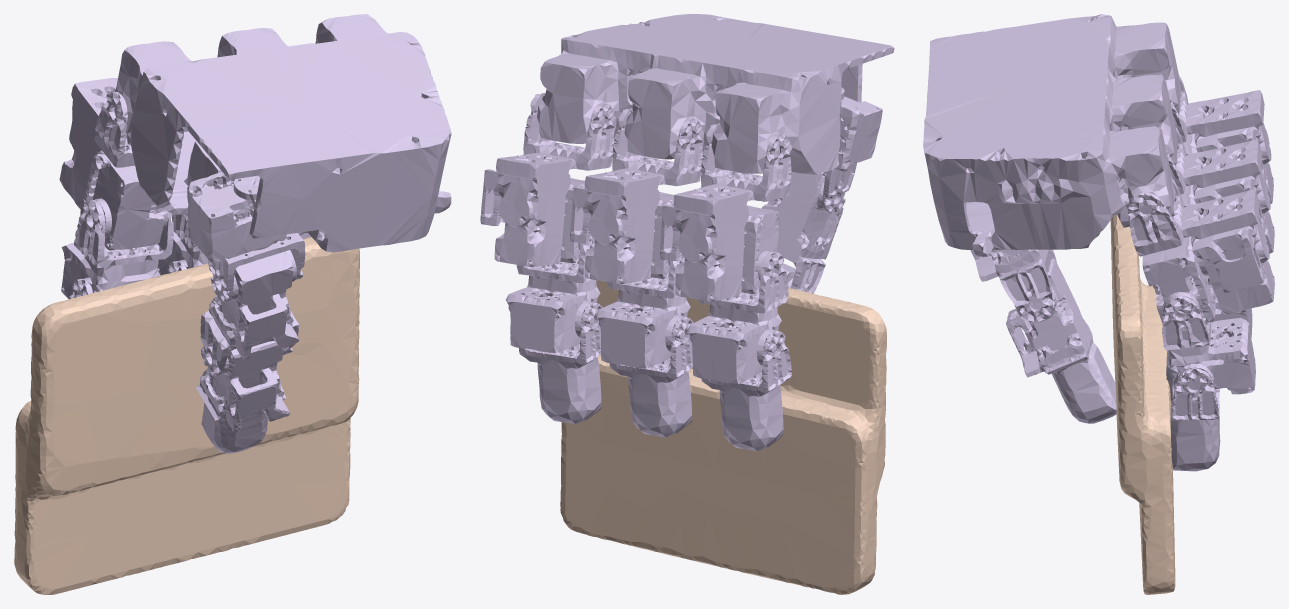
The model's file is 414fd98af3d239-closed.glb.
The picture shows the model from 3 angles, left to right: view 1: azimuth 30°, elevation 25°; view 2: azimuth 150°, elevation 25°; view 3: azimuth 270°, elevation 25°; orthographic projection. The views are drawn at different scales.
Parts seen in each view (by area): view 1: LEAP_hand, world; view 2: LEAP_hand, world; view 3: LEAP_hand, world.
Boxes of the visible parts, box(x1,y1,x2,y2) form: LEAP_hand: box(59, 14, 451, 453); world: box(14, 237, 359, 594); LEAP_hand: box(480, 14, 894, 451); world: box(560, 261, 886, 594); LEAP_hand: box(923, 14, 1274, 471); world: box(1110, 214, 1175, 594).
Size of the model in its own units: 0.1707 by 0.231 by 0.1513.
